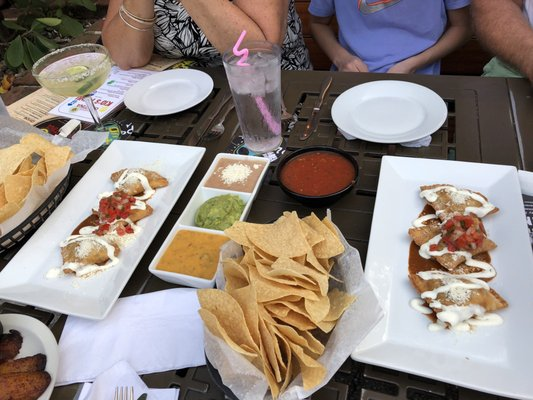sandwich: (302, 76, 332, 143)
sushi: (277, 147, 359, 207), (31, 43, 113, 98)
